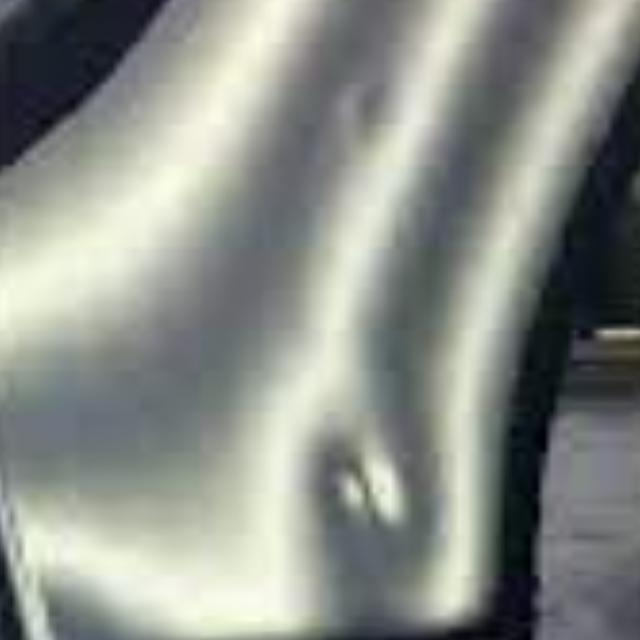dents: (291, 414, 444, 599), (318, 55, 435, 182)
